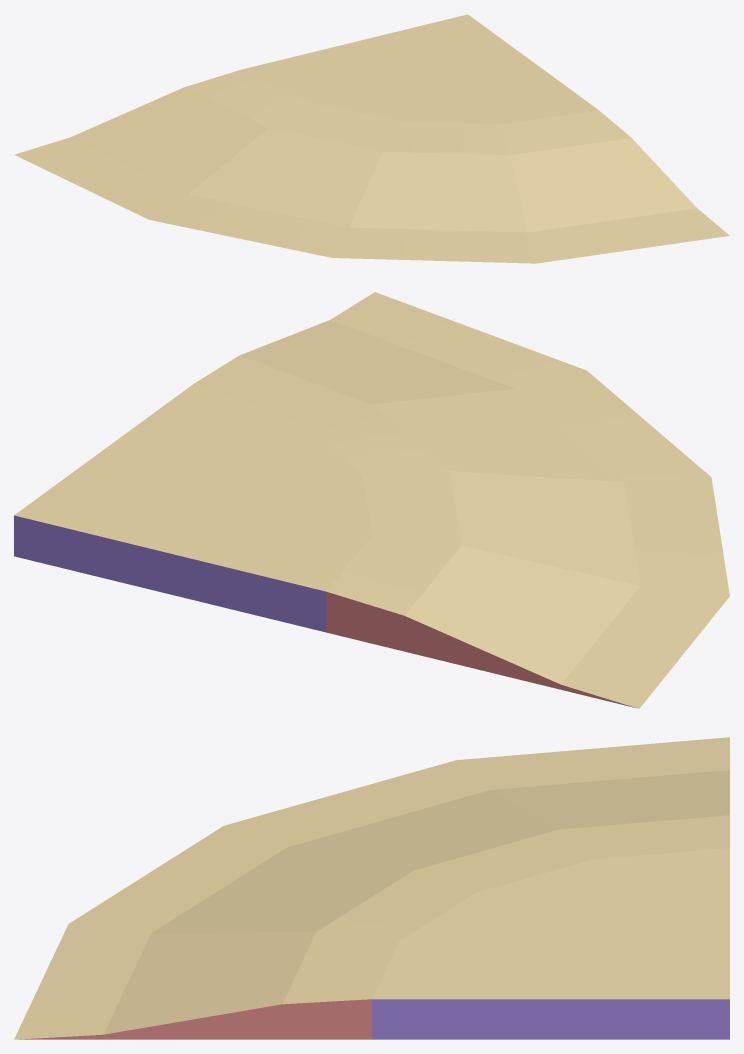
File: Terrain_Sand_Incline_Curve_Outer_8x8.glb
The picture shows the model from 3 angles, top to bottom: view 1: azimuth 30°, elevation 25°; view 2: azimuth 150°, elevation 25°; view 3: azimuth 270°, elevation 25°; orthographic projection. The views are drawn at different scales.
Visible parts, largest first — view 1: Terrain_Sand_Incline_Curve_Outer_8x8; view 2: Terrain_Sand_Incline_Curve_Outer_8x8; view 3: Terrain_Sand_Incline_Curve_Outer_8x8.
Boxes of the visible parts, bbox=[...] form: Terrain_Sand_Incline_Curve_Outer_8x8: bbox=[14, 14, 729, 263]; Terrain_Sand_Incline_Curve_Outer_8x8: bbox=[14, 292, 729, 708]; Terrain_Sand_Incline_Curve_Outer_8x8: bbox=[14, 737, 729, 1039].
Bounding box in the file's own units: 800 × 50 × 800.
